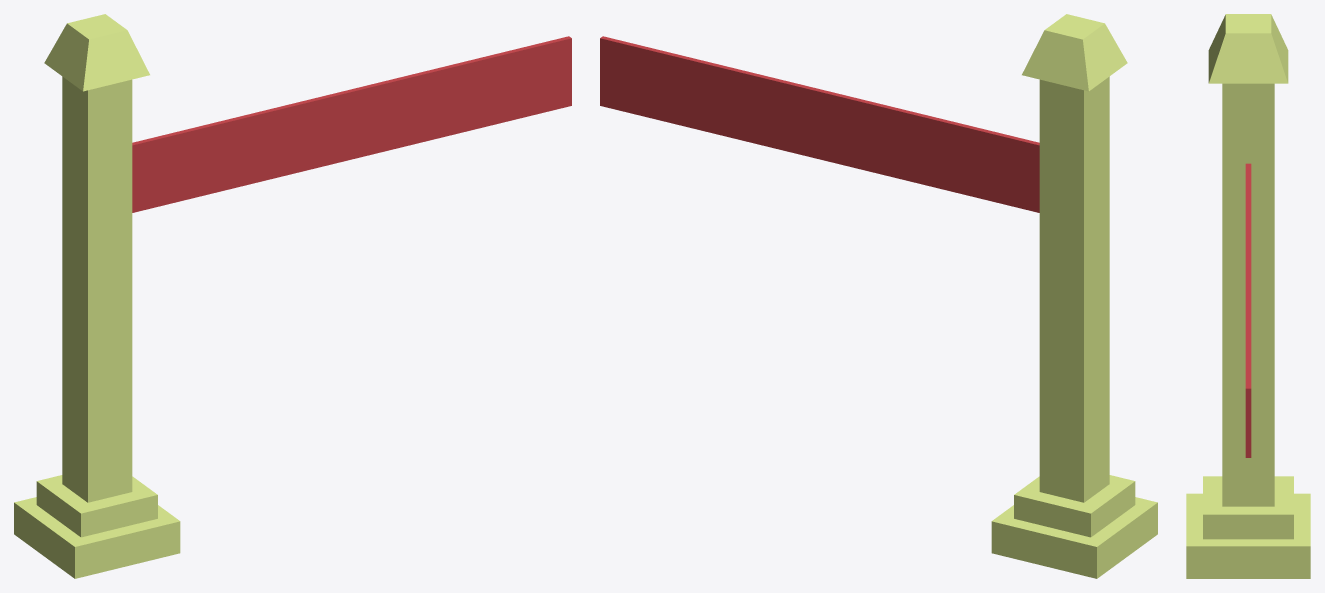
File: _eparator.fbx
3 renders of one model, left to right at view 1: azimuth 30°, elevation 25°; view 2: azimuth 150°, elevation 25°; view 3: azimuth 270°, elevation 25°, orthographic. The views are drawn at different scales.
Parts seen in each view (by area): view 1: Liner; view 2: Liner; view 3: Liner.
Boxes of the visible parts, box(x1,y1,x2,y2) form: Liner: box(14, 14, 571, 578); Liner: box(600, 14, 1157, 578); Liner: box(1186, 14, 1310, 578).
Bounding box in the file's own units: 270 × 254 × 54.17.
